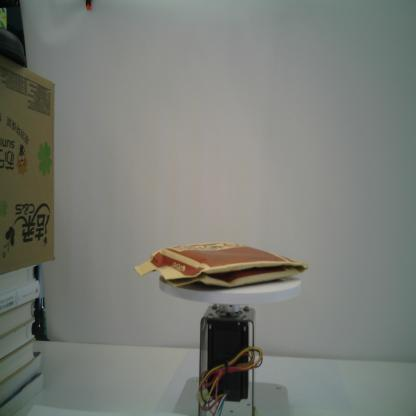Dried Food: (133, 241, 308, 288)
